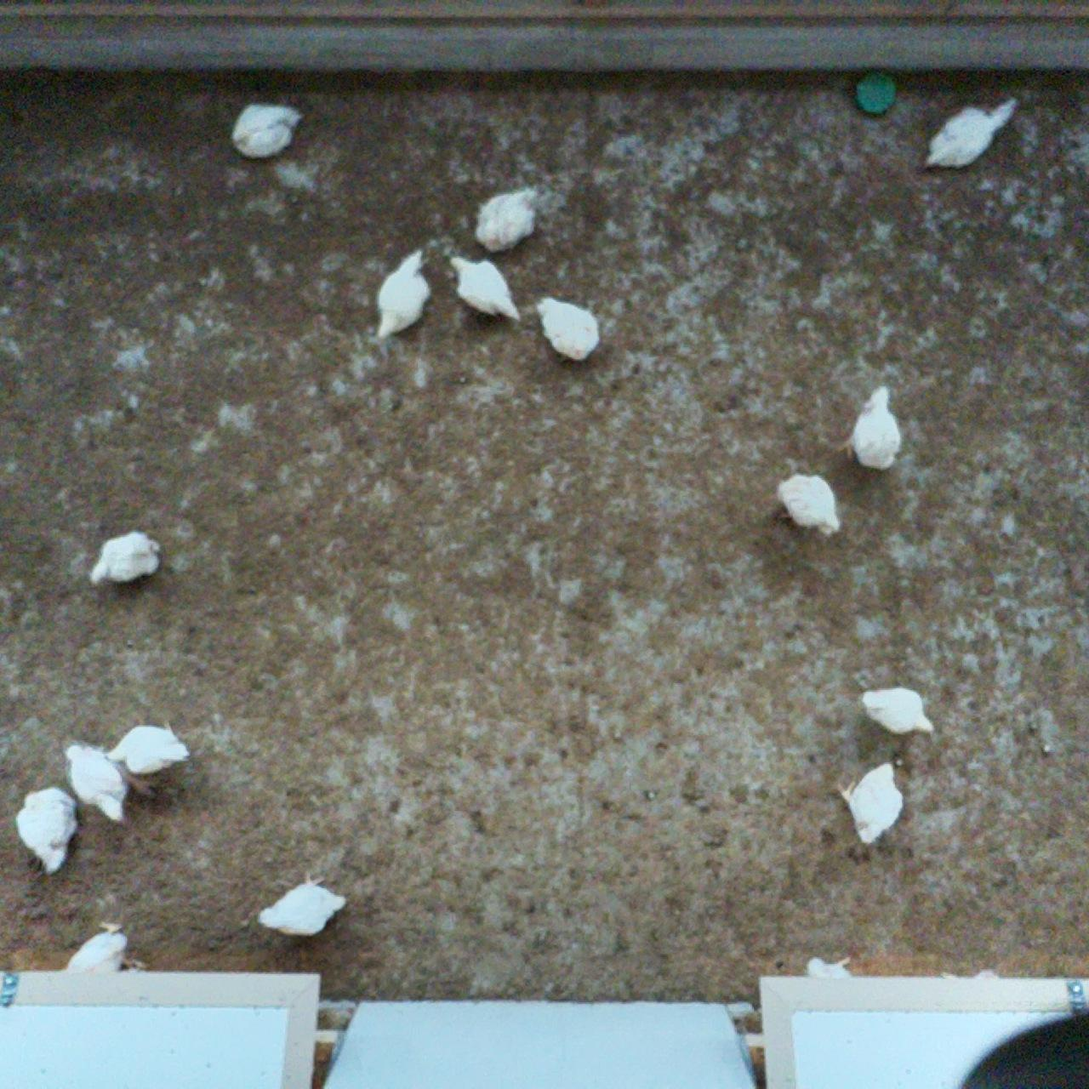chicken: (917, 93, 1021, 175), (839, 754, 911, 850), (254, 872, 353, 939), (371, 245, 438, 343), (15, 777, 80, 877), (837, 383, 909, 473), (57, 739, 129, 827), (771, 468, 846, 543), (448, 250, 522, 322), (472, 181, 544, 255), (101, 718, 191, 777), (229, 97, 306, 165), (85, 524, 165, 589), (862, 678, 939, 742), (535, 293, 602, 363), (63, 916, 135, 978), (806, 949, 864, 984)
